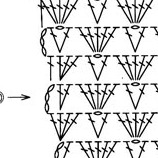enseble_chain: (90, 22, 126, 58), (90, 79, 125, 114), (126, 51, 158, 85), (54, 52, 86, 86), (110, 49, 139, 86), (125, 24, 156, 58), (75, 77, 103, 113), (74, 21, 102, 56), (38, 23, 63, 61), (51, 25, 79, 57), (119, 78, 145, 112), (29, 0, 57, 30), (129, 0, 158, 28), (91, 111, 117, 141), (92, 54, 116, 84), (52, 83, 76, 111), (54, 111, 74, 139), (131, 111, 147, 138), (43, 56, 59, 83), (6, 89, 32, 105), (55, 139, 76, 158), (42, 88, 57, 114)
fan: (111, 0, 140, 28), (83, 54, 103, 84), (89, 26, 106, 53), (52, 1, 70, 26)
